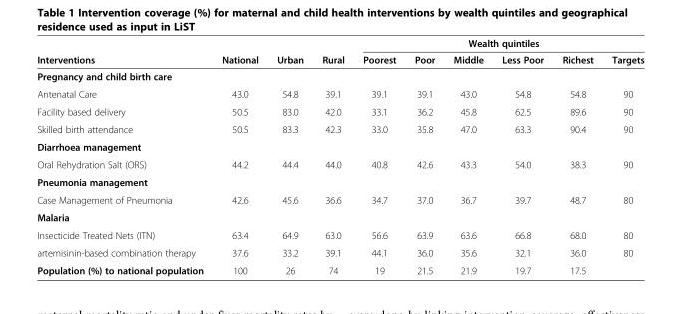table: (36, 37, 643, 275)
table column: (36, 37, 212, 275), (492, 37, 552, 275), (212, 37, 266, 275), (353, 37, 404, 275), (552, 37, 602, 275), (443, 37, 492, 275), (266, 37, 312, 275), (312, 37, 353, 275), (602, 37, 643, 275), (404, 37, 443, 275)
table column header: (36, 37, 643, 67)
table projected row header: (36, 137, 643, 155), (36, 172, 643, 190), (36, 208, 643, 226), (36, 67, 643, 84)
table row: (36, 84, 643, 102), (36, 102, 643, 120), (36, 137, 643, 155), (36, 172, 643, 190), (36, 190, 643, 208), (36, 208, 643, 226), (36, 243, 643, 261), (36, 67, 643, 84), (36, 120, 643, 137), (36, 155, 643, 172), (36, 226, 643, 243), (36, 51, 643, 67), (36, 37, 643, 51), (36, 261, 643, 275)
table spanning cell: (36, 37, 212, 67), (353, 37, 643, 51), (212, 37, 266, 67), (266, 37, 312, 67), (312, 37, 353, 67)
